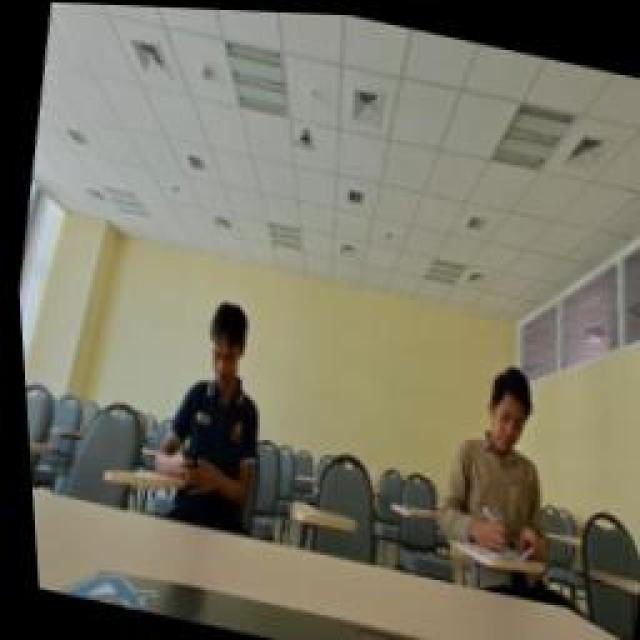phone: (132, 282, 280, 500)
study: (418, 343, 570, 565)
